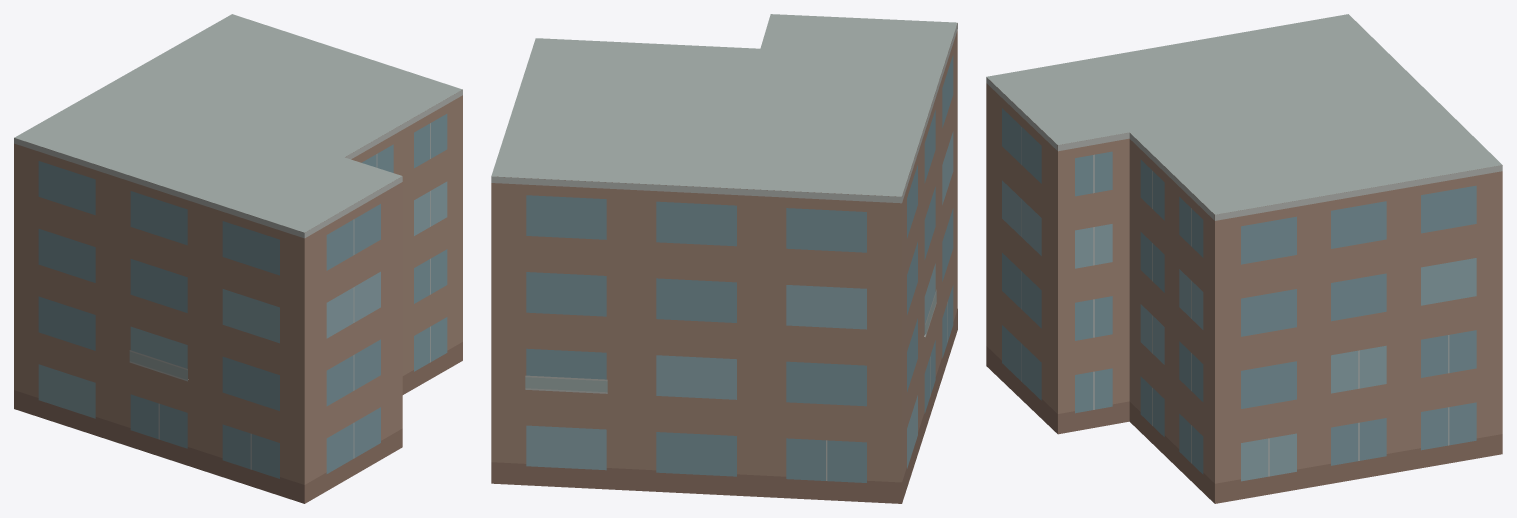
The model's file is survey-upis-32848182.glb.
The picture shows the model from 3 angles, left to right: view 1: azimuth 30°, elevation 25°; view 2: azimuth 150°, elevation 25°; view 3: azimuth 270°, elevation 25°; orthographic projection. The views are drawn at different scales.
Parts seen in each view (by area): view 1: survey-upis-32848182.tmp; view 2: survey-upis-32848182.tmp; view 3: survey-upis-32848182.tmp.
Part boxes in pixels (box(x1,y1,x2,y2)): survey-upis-32848182.tmp: box(14, 14, 462, 503); survey-upis-32848182.tmp: box(491, 14, 957, 503); survey-upis-32848182.tmp: box(986, 14, 1502, 503).
Bounding box in the file's own units: 17.14 × 11.5 × 18.63.
